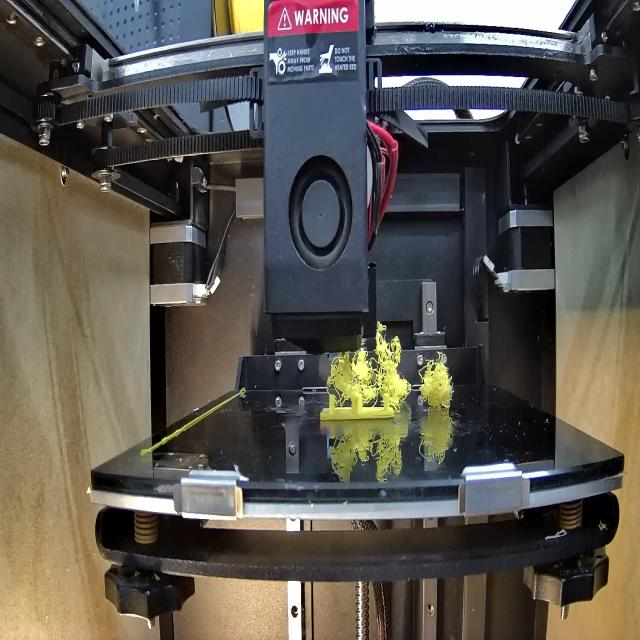spaghetti: (332, 332, 412, 402), (417, 356, 453, 410)
